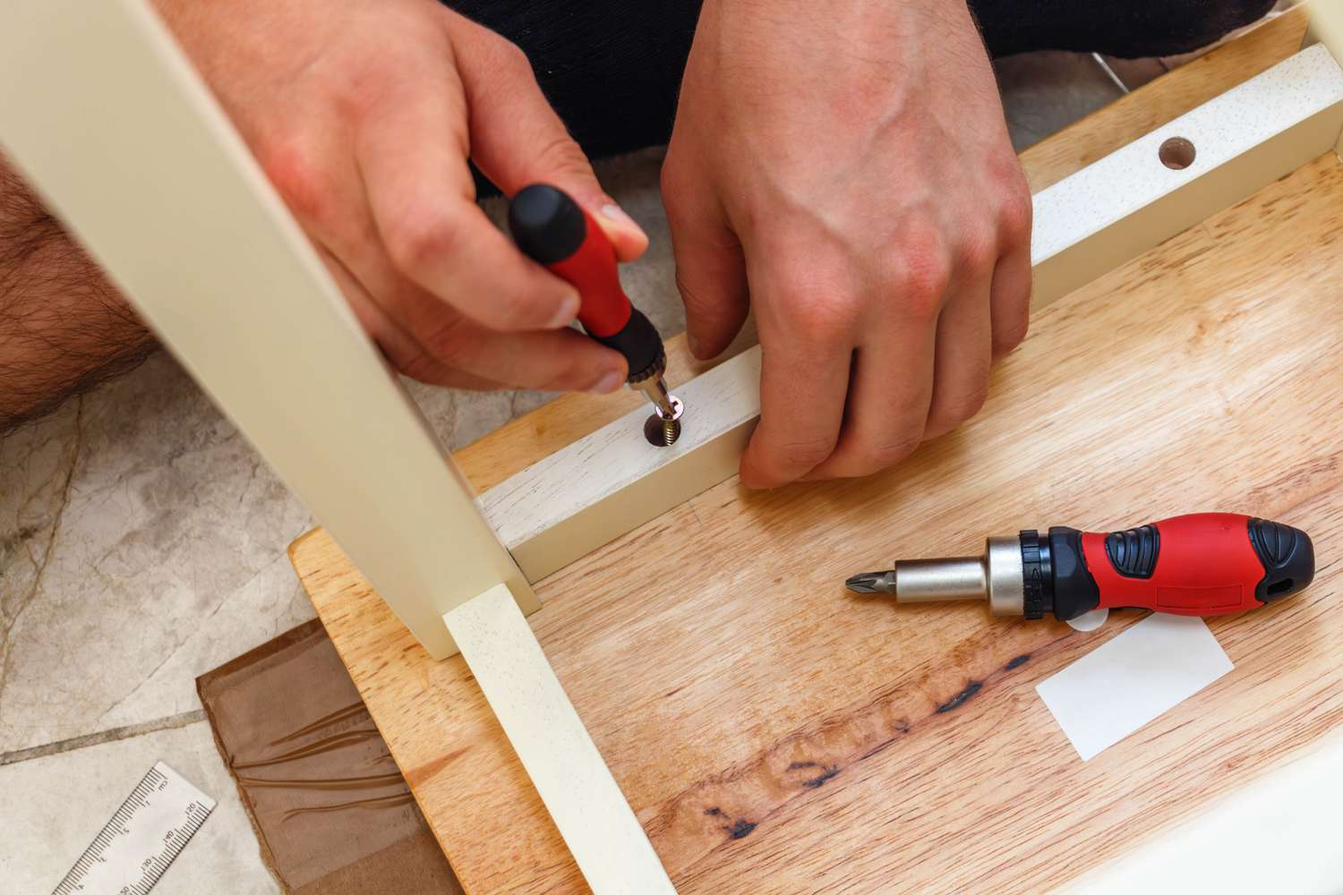Screwdriver: (509, 183, 664, 382), (1081, 513, 1290, 614)
